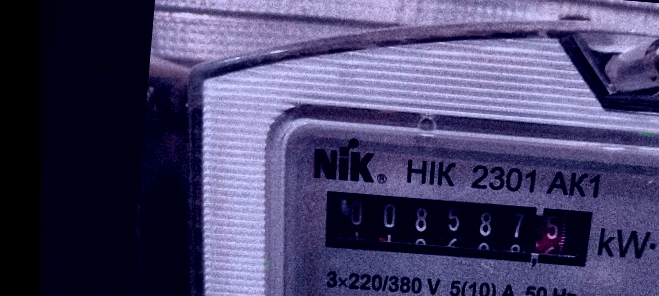0: (346, 196, 366, 227), (380, 200, 400, 229)
5: (444, 205, 464, 234), (544, 213, 563, 243)
7: (508, 209, 527, 240)
8: (476, 207, 495, 238), (412, 204, 430, 233)
screen: (304, 173, 612, 281)
